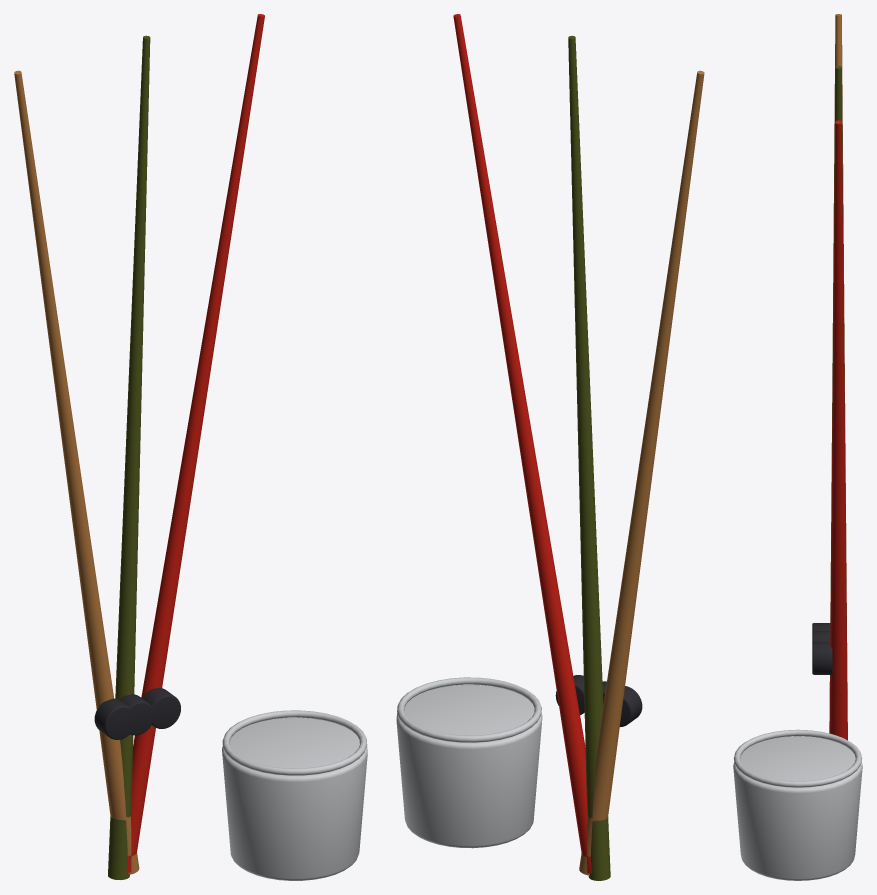
Rendered from fishing_rods.glb.
3 renders of one model, left to right at view 1: azimuth 30°, elevation 25°; view 2: azimuth 150°, elevation 25°; view 3: azimuth 270°, elevation 25°, orthographic. The views are drawn at different scales.
Parts seen in each view (by area): view 1: fishing_rods; view 2: fishing_rods; view 3: fishing_rods.
Boxes of the visible parts, bbox=[...] form: fishing_rods: bbox=[14, 14, 367, 880]; fishing_rods: bbox=[396, 14, 704, 880]; fishing_rods: bbox=[733, 14, 862, 880].
Size of the model in its own units: 0.8063 by 2 by 0.3185.
